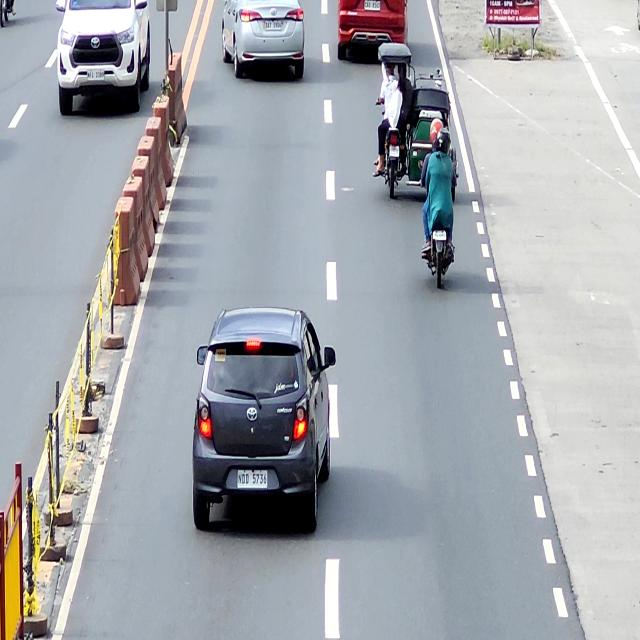Car: (192, 305, 338, 534), (56, 0, 152, 116), (222, 0, 306, 81), (337, 0, 409, 61)
License-Plate: (237, 469, 269, 490), (86, 69, 106, 82), (265, 18, 282, 31), (364, 0, 381, 11), (432, 229, 447, 241), (389, 145, 400, 157)
Motorcycle: (418, 159, 459, 289)
Tricycle: (377, 41, 458, 202)
